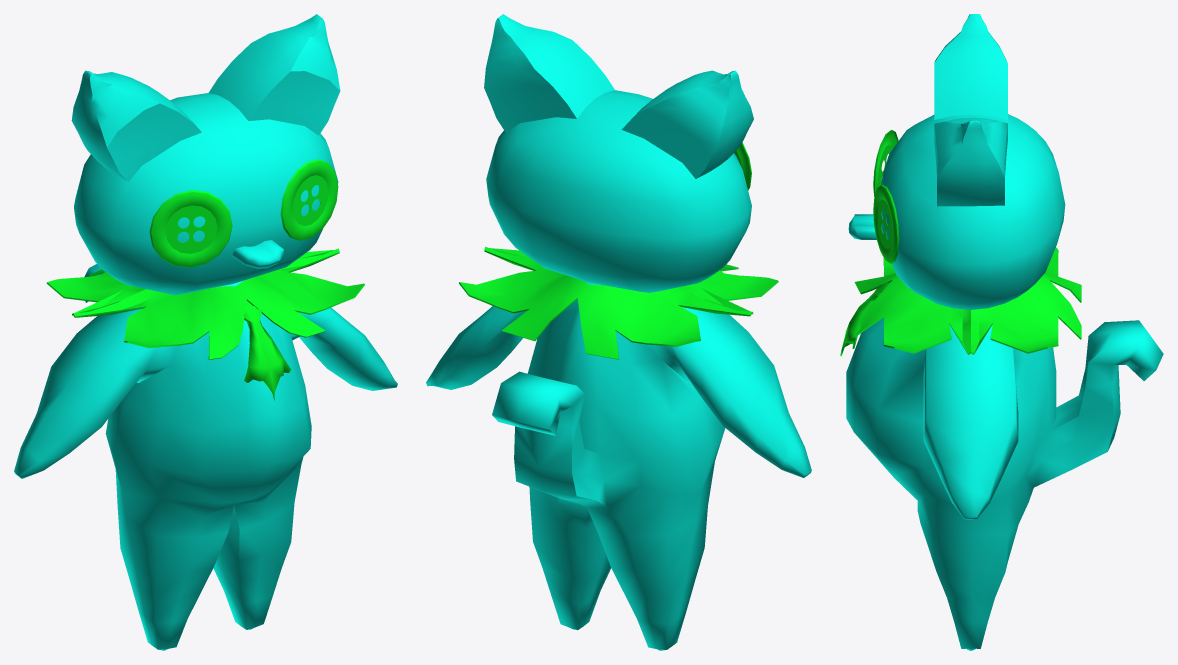
The model's file is Ennemie_Coton_LP.fbx.
The picture shows the model from 3 angles, left to right: view 1: azimuth 30°, elevation 25°; view 2: azimuth 150°, elevation 25°; view 3: azimuth 270°, elevation 25°; orthographic projection. The views are drawn at different scales.
Parts seen in each view (by area): view 1: EnnemieCoton_Body_LP, EnnemieCoton_Head_LP, EnnemieCoton_Scarf_LP, EnnemieCoton_Eye_LP, EnnemieCoton_Tie_LP, EnnemieCoton_Nose_LP; view 2: EnnemieCoton_Body_LP, EnnemieCoton_Head_LP, EnnemieCoton_Scarf_LP; view 3: EnnemieCoton_Body_LP, EnnemieCoton_Head_LP, EnnemieCoton_Scarf_LP, EnnemieCoton_Eye_LP, EnnemieCoton_Tie_LP, EnnemieCoton_Nose_LP.
Boxes of the visible parts, bbox=[...] form: EnnemieCoton_Body_LP: bbox=[14, 264, 397, 650]; EnnemieCoton_Head_LP: bbox=[71, 14, 340, 295]; EnnemieCoton_Scarf_LP: bbox=[46, 248, 364, 359]; EnnemieCoton_Eye_LP: bbox=[149, 159, 338, 267]; EnnemieCoton_Tie_LP: bbox=[243, 300, 291, 400]; EnnemieCoton_Nose_LP: bbox=[232, 240, 283, 268]; EnnemieCoton_Body_LP: bbox=[426, 281, 811, 650]; EnnemieCoton_Head_LP: bbox=[484, 14, 753, 292]; EnnemieCoton_Scarf_LP: bbox=[459, 246, 778, 359]; EnnemieCoton_Body_LP: bbox=[846, 310, 1163, 650]; EnnemieCoton_Head_LP: bbox=[881, 14, 1065, 309]; EnnemieCoton_Scarf_LP: bbox=[854, 247, 1081, 354]; EnnemieCoton_Eye_LP: bbox=[873, 130, 899, 263]; EnnemieCoton_Tie_LP: bbox=[840, 282, 889, 356]; EnnemieCoton_Nose_LP: bbox=[848, 214, 876, 239].
Size of the model in its own units: 2.77 by 4.15 by 2.16.
